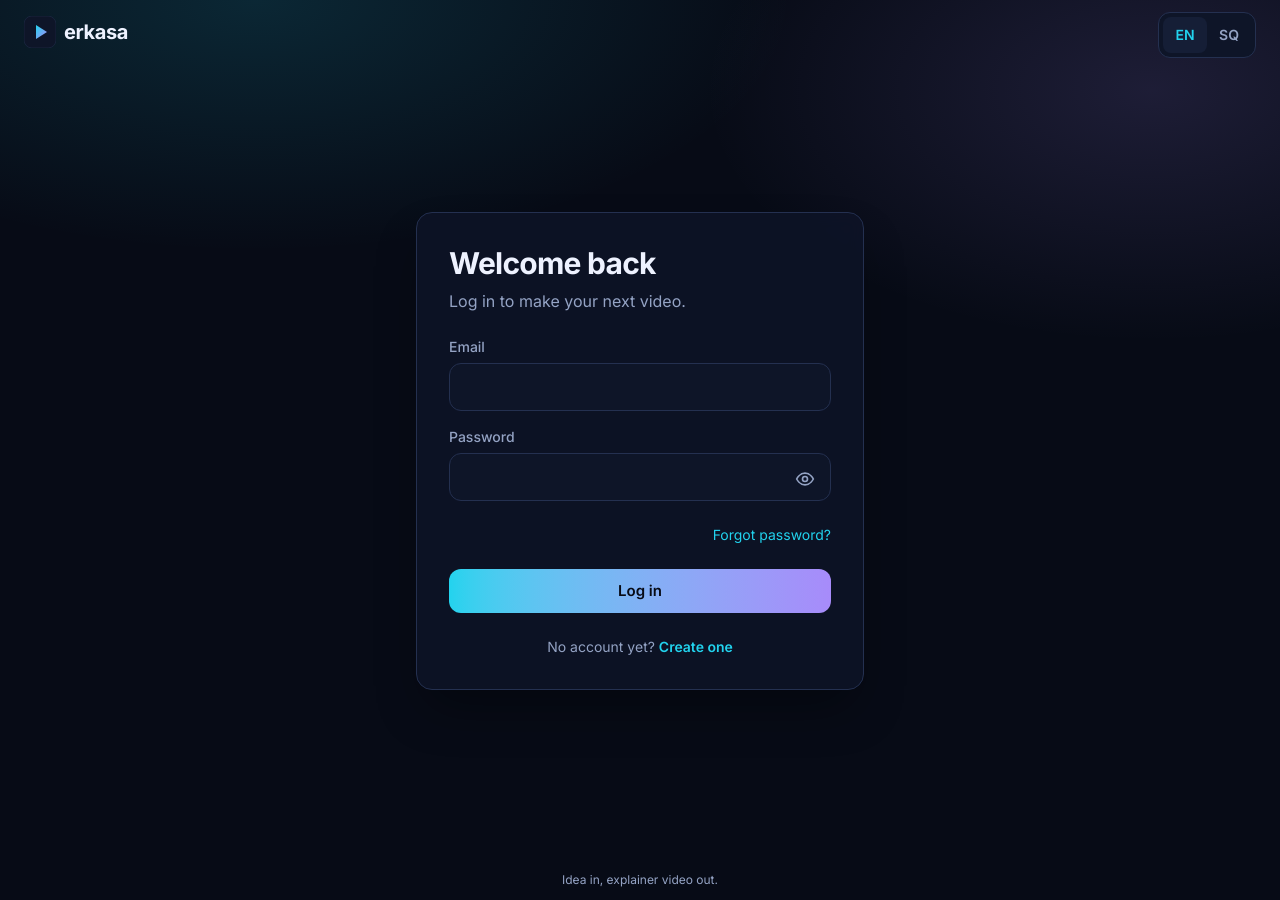
Test: login page › logs in and opens the app
The width and height of the screenshot is (1280, 900).
Type "ergi@example.com" into the field labelled "Email" at (640, 387), box left=449, top=363, right=831, bottom=411
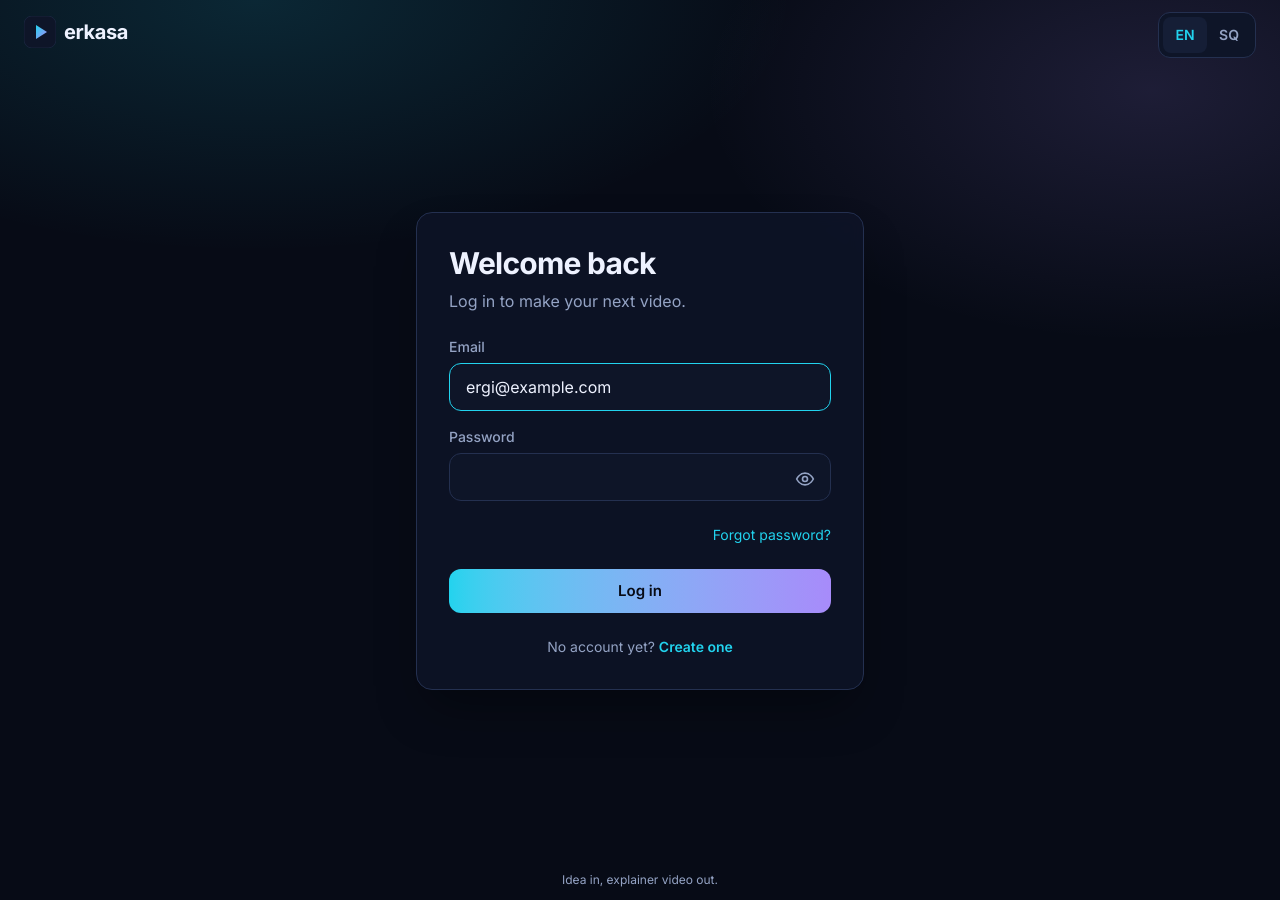
Type "secret123" into the password field labelled "Password" at (640, 477), box left=449, top=453, right=831, bottom=501
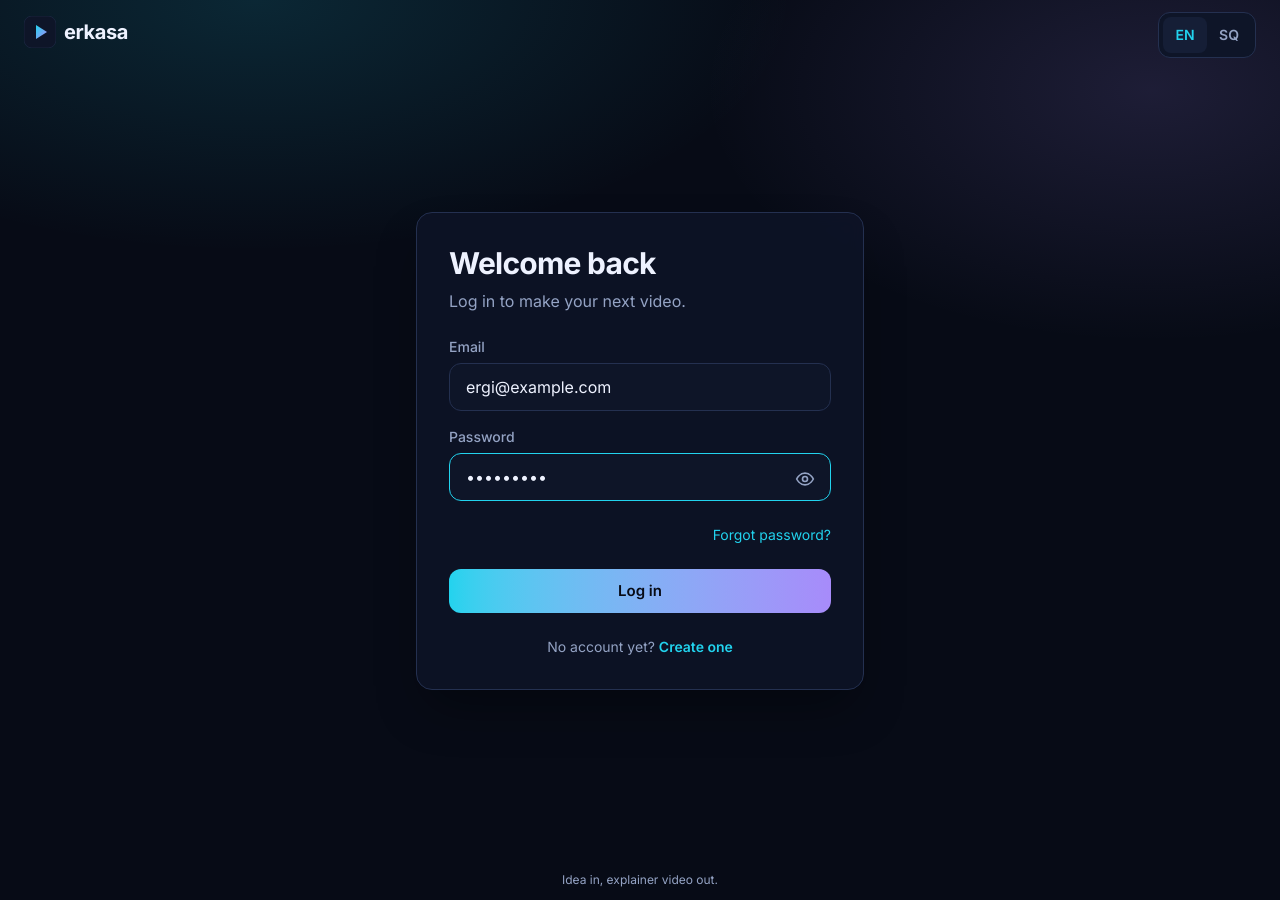
Click the button "Log in" at (640, 591), box left=449, top=569, right=831, bottom=613
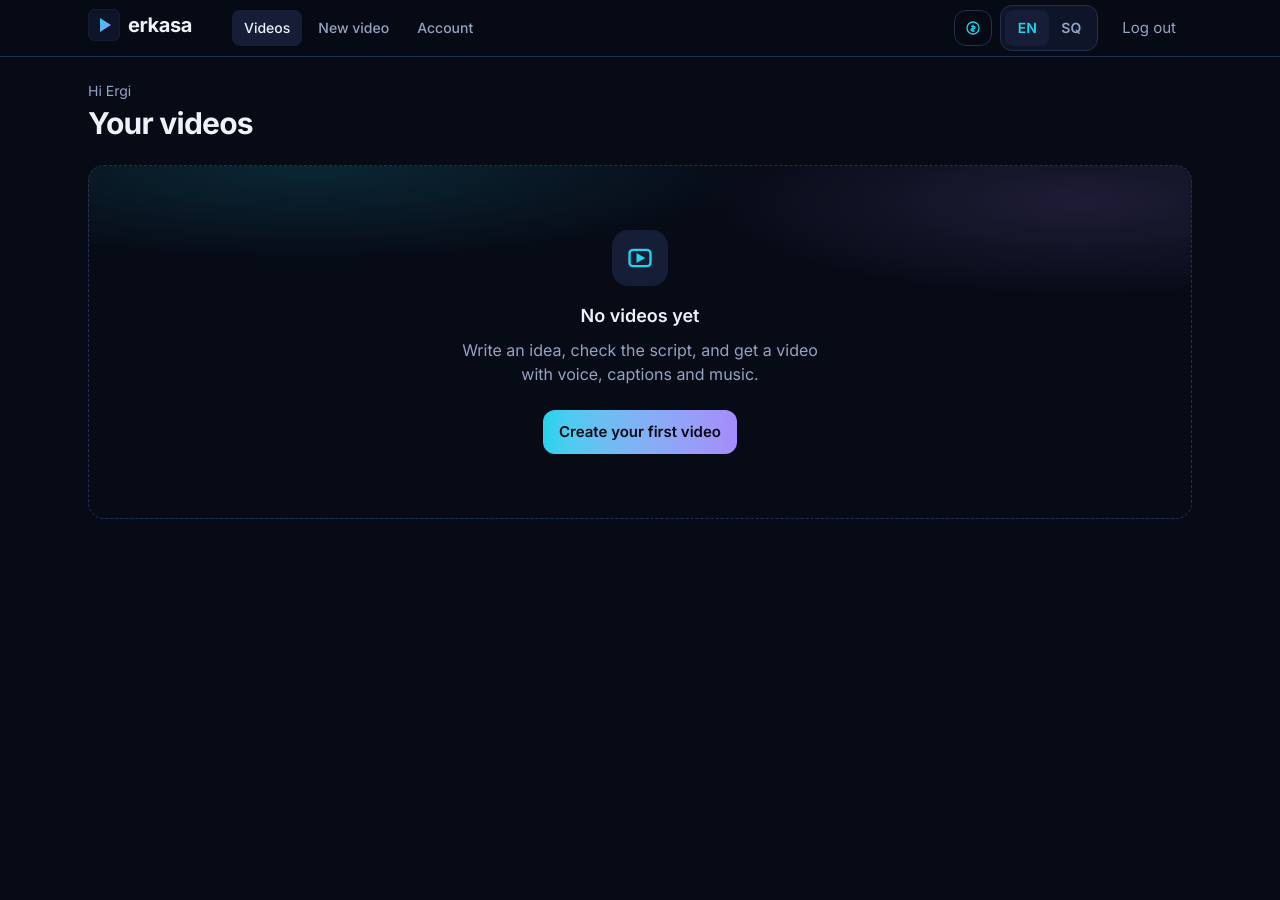
Expected: the text "Hi Ergi" is shown, left=88, top=82, right=131, bottom=99
